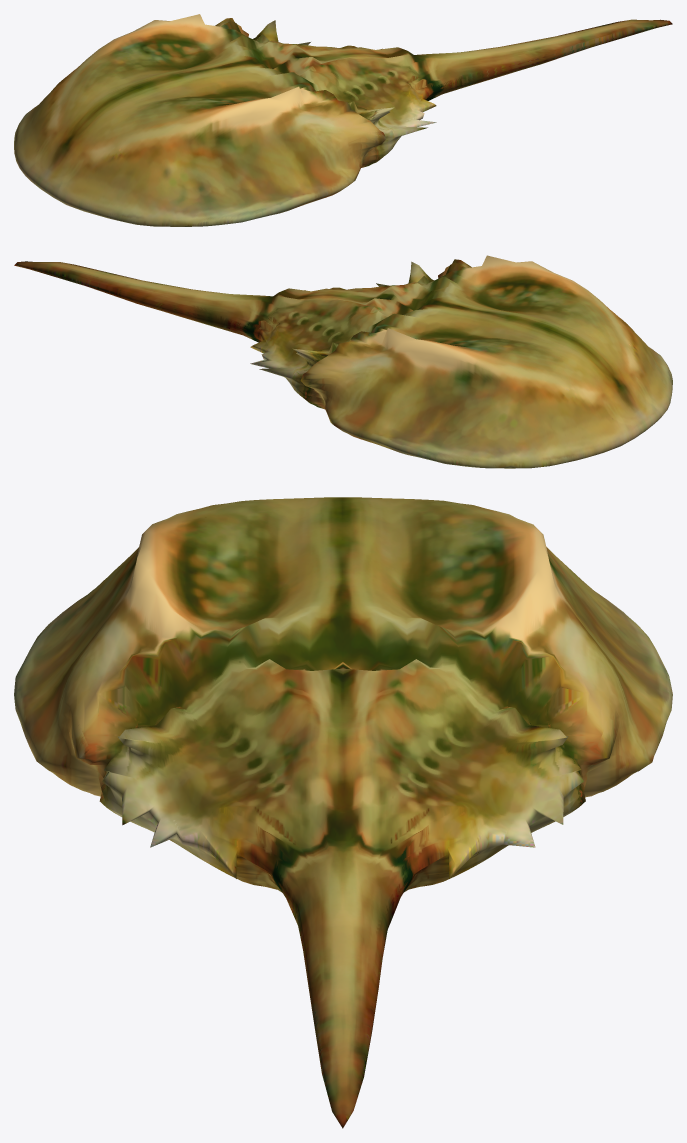
Rendered from horseshoe-crab.glb.
The picture shows the model from 3 angles, top to bottom: view 1: azimuth 30°, elevation 25°; view 2: azimuth 150°, elevation 25°; view 3: azimuth 270°, elevation 25°; orthographic projection. The views are drawn at different scales.
Visible parts, largest first — view 1: horseshoe-crab; view 2: horseshoe-crab; view 3: horseshoe-crab.
Part boxes in pixels (x1,y1,x2,y2): horseshoe-crab: [14, 14, 672, 226]; horseshoe-crab: [14, 255, 672, 468]; horseshoe-crab: [14, 497, 672, 1128].
Size of the model in its own units: 4.01 by 0.6132 by 1.92.
Materials: 1 (1 with a texture image).
